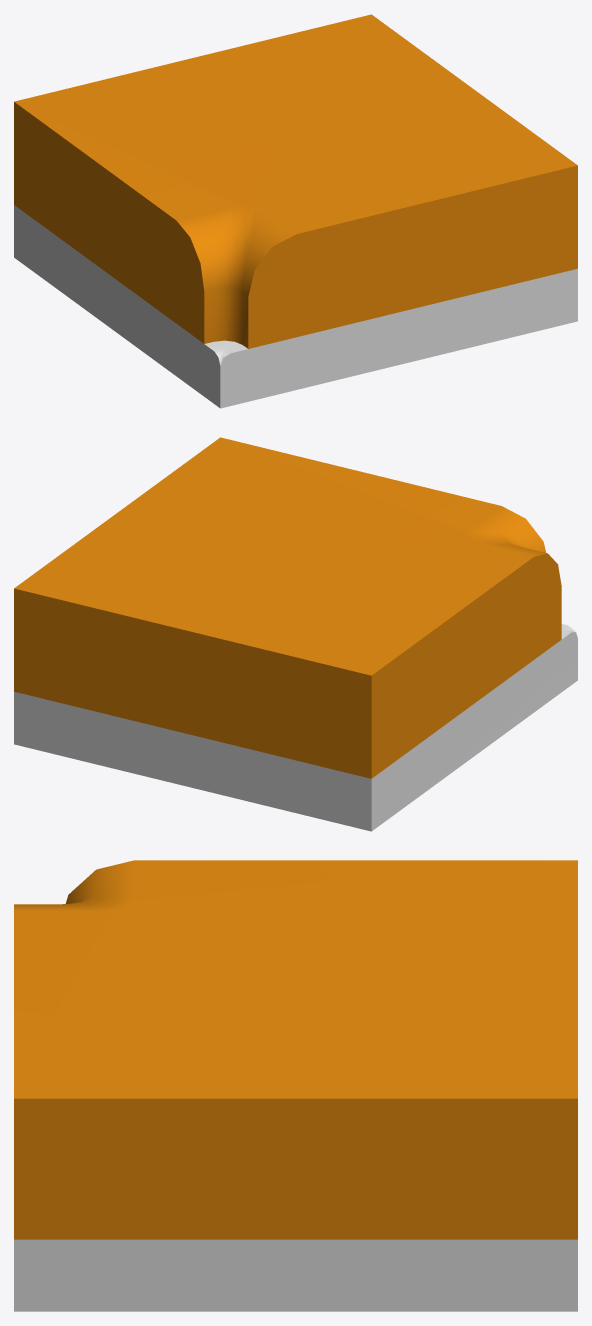
File: Wall_Corner.fbx
3 views of the same model, one above another, from view 1: azimuth 30°, elevation 25°; view 2: azimuth 150°, elevation 25°; view 3: azimuth 270°, elevation 25° (orthographic). The views are drawn at different scales.
Parts seen in each view (by area): view 1: Wall_Corner; view 2: Wall_Corner; view 3: Wall_Corner.
Part boxes in pixels (x1,y1,x2,y2): Wall_Corner: [14, 14, 577, 408]; Wall_Corner: [14, 437, 577, 831]; Wall_Corner: [14, 860, 577, 1311].
Size of the model in its own units: 70.82 by 29.51 by 70.82.
